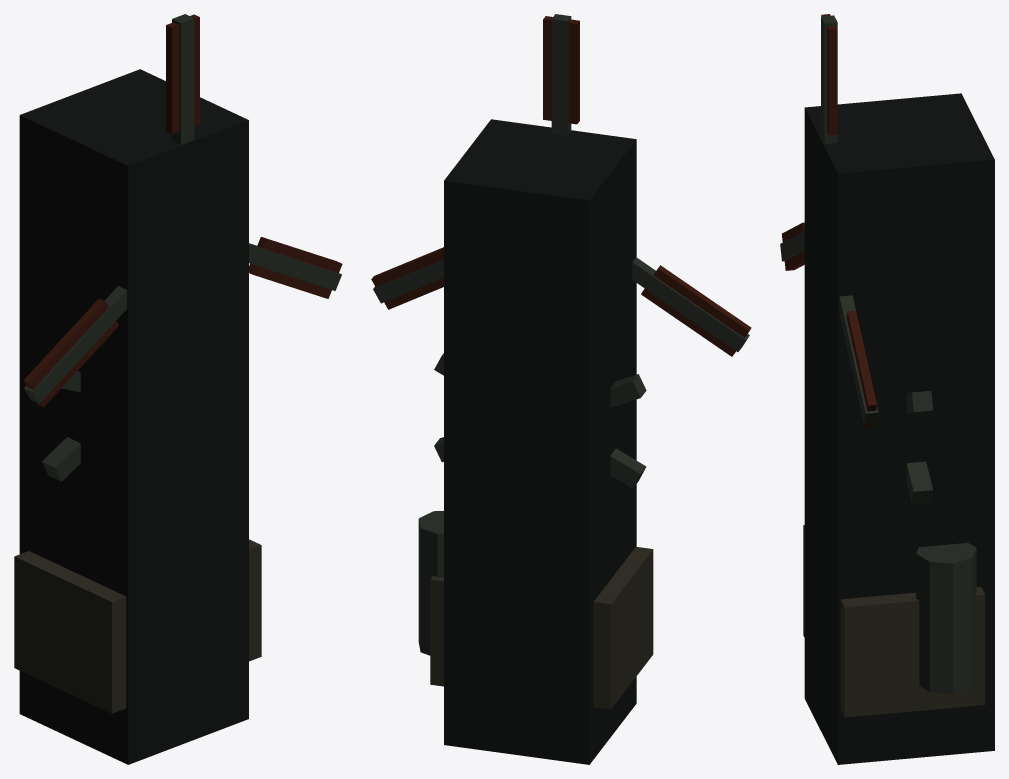
The model's file is prop_windmill.obj.
3 views of the same model, side by side, from view 1: azimuth 30°, elevation 25°; view 2: azimuth 150°, elevation 25°; view 3: azimuth 270°, elevation 25° (orthographic). The views are drawn at different scales.
Visible parts, largest first — view 1: MilitaryStructure12, metal_box2, enemyRed_box11, enemyRed_box10, metal_box, enemyRed_box12, metal_box3; view 2: MilitaryStructure12, metal_box2, enemyRed_box11, metal_box, enemyRed_box10, enemyRed_box12, metal_box3; view 3: MilitaryStructure12, enemyRed_box12, enemyRed_box10, metal_box3, metal_box, enemyRed_box11, metal_box2.
Boxes of the visible parts, left/top/right/bottom form: MilitaryStructure12: left=14, top=69, right=261, bottom=764; metal_box2: left=24, top=286, right=127, bottom=403; enemyRed_box11: left=23, top=298, right=118, bottom=407; enemyRed_box10: left=166, top=14, right=199, bottom=134; metal_box: left=172, top=14, right=194, bottom=144; enemyRed_box12: left=249, top=237, right=342, bottom=298; metal_box3: left=249, top=243, right=341, bottom=290; MilitaryStructure12: left=418, top=119, right=653, bottom=764; metal_box2: left=632, top=257, right=749, bottom=351; enemyRed_box11: left=641, top=265, right=751, bottom=356; metal_box: left=551, top=14, right=571, bottom=135; enemyRed_box10: left=543, top=16, right=579, bottom=124; enemyRed_box12: left=371, top=247, right=443, bottom=309; metal_box3: left=373, top=259, right=443, bottom=303; MilitaryStructure12: left=803, top=93, right=994, bottom=764; enemyRed_box12: left=844, top=310, right=876, bottom=427; enemyRed_box10: left=821, top=14, right=837, bottom=135; metal_box3: left=839, top=295, right=878, bottom=423; metal_box: left=821, top=15, right=837, bottom=143; enemyRed_box11: left=782, top=222, right=804, bottom=270; metal_box2: left=780, top=231, right=804, bottom=261.
Size of the model in its own units: 3.7 by 7.1 by 1.94.
